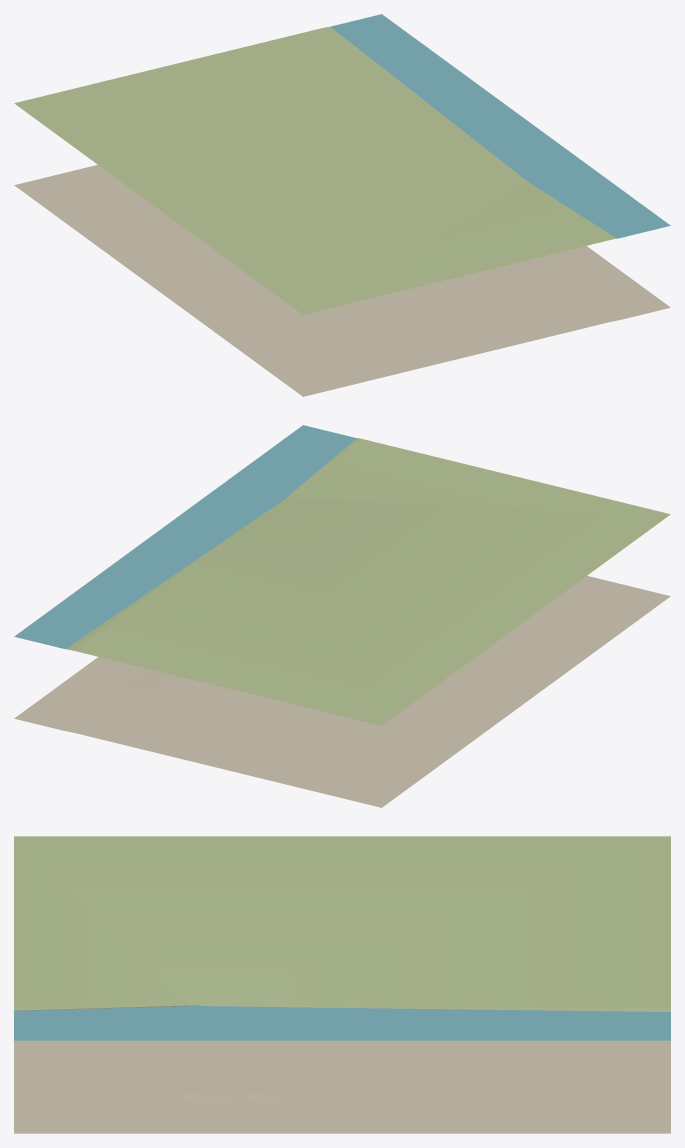
3 renders of one model, top to bottom at view 1: azimuth 30°, elevation 25°; view 2: azimuth 150°, elevation 25°; view 3: azimuth 270°, elevation 25°, orthographic. The views are drawn at different scales.
Visible parts, largest first — view 1: s_-13_-4__grass, s_-13_-4__soil, s_-13_-4__water; view 2: s_-13_-4__grass, s_-13_-4__soil, s_-13_-4__water; view 3: s_-13_-4__grass, s_-13_-4__soil, s_-13_-4__water.
Boxes of the visible parts, x1=… form: s_-13_-4__grass: x1=14, y1=26, x2=616, y2=314; s_-13_-4__soil: x1=14, y1=165, x2=670, y2=396; s_-13_-4__water: x1=330, y1=14, x2=670, y2=238; s_-13_-4__grass: x1=66, y1=438, x2=670, y2=725; s_-13_-4__soil: x1=14, y1=576, x2=670, y2=807; s_-13_-4__water: x1=14, y1=425, x2=356, y2=649; s_-13_-4__grass: x1=14, y1=836, x2=670, y2=1011; s_-13_-4__soil: x1=14, y1=1005, x2=670, y2=1133; s_-13_-4__water: x1=14, y1=1006, x2=670, y2=1040.
Size of the model in its own units: 94 by 20.14 by 128.
